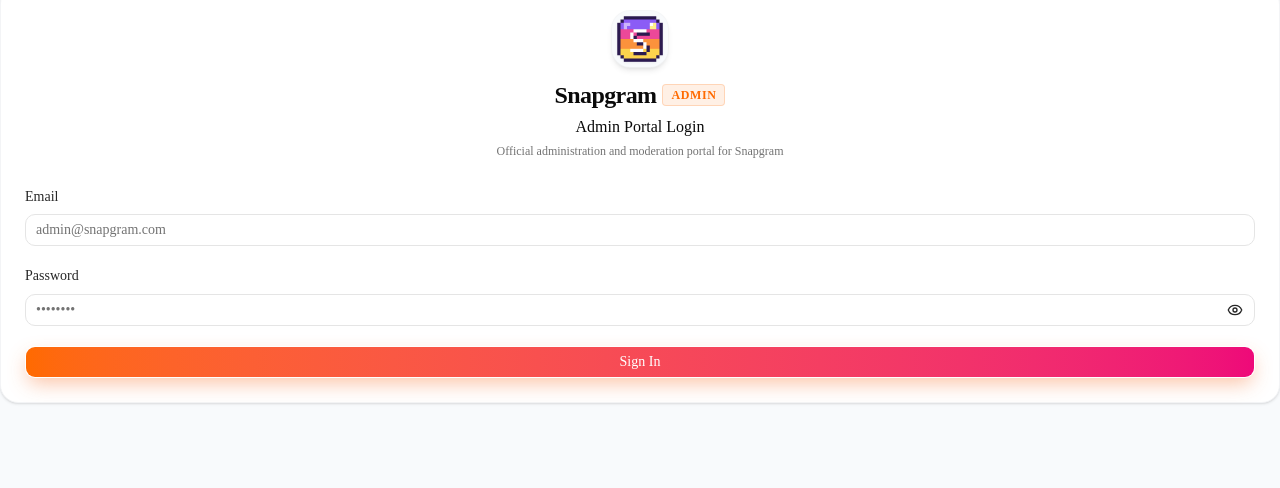
Test: LoginForm › shows a rate limit alert with a countdown
Type "admin@snapgram.dev" into the field labelled "Email" at (640, 230), box [25,214,1255,246]
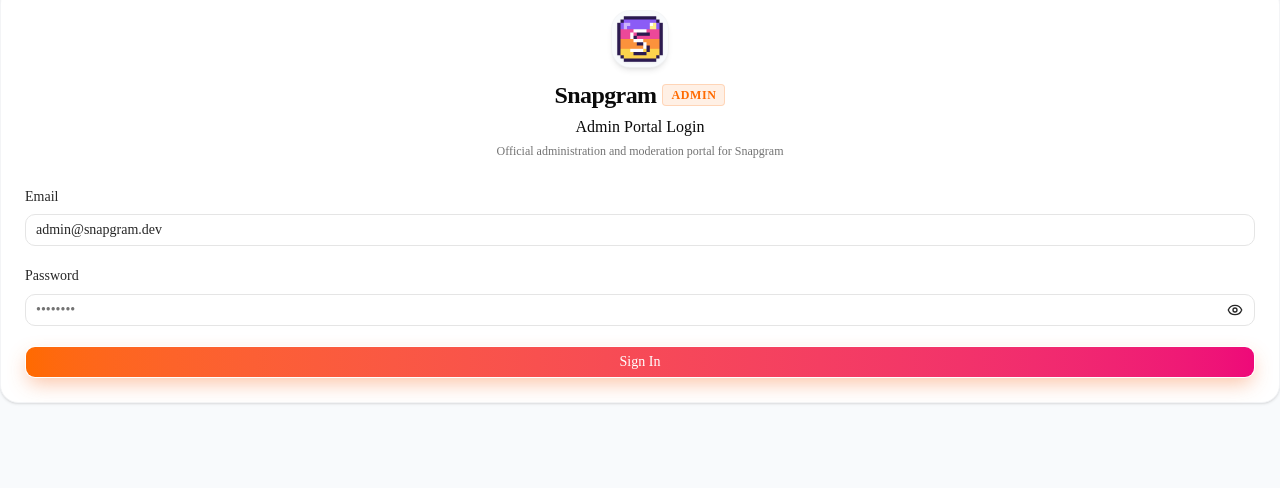
Type "password" into the password field with placeholder "••••••••" at (640, 310), box [25,294,1255,326]
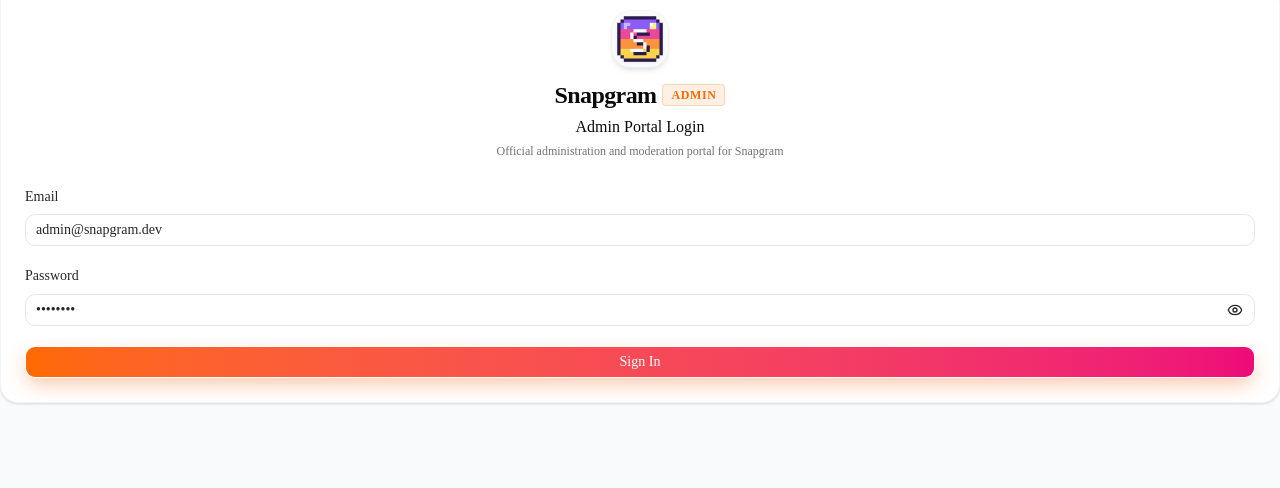
Click the button "Sign In" at (640, 362), box [25,346,1255,378]
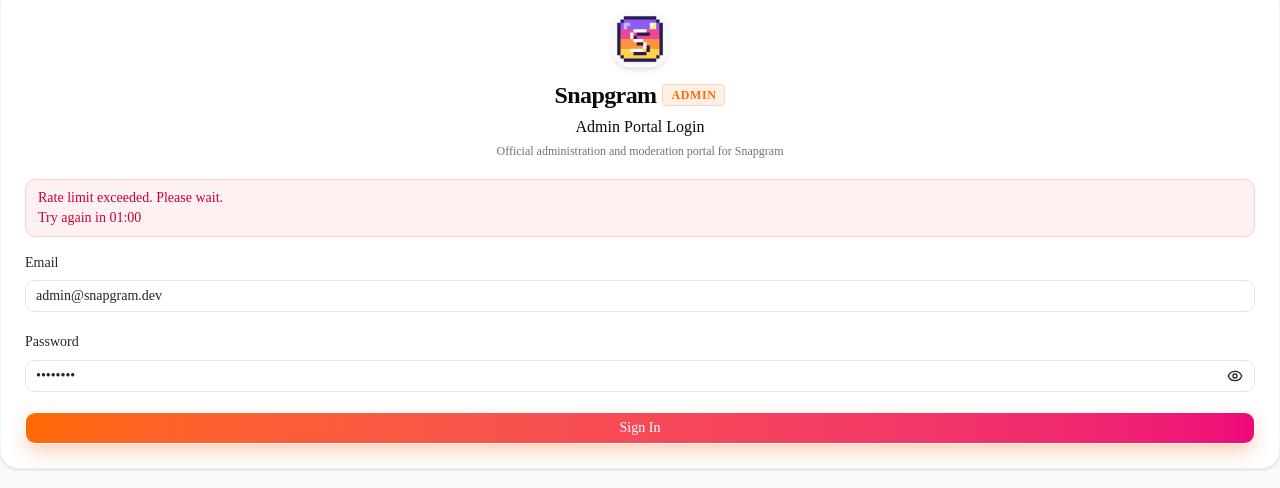
Check: the message "Rate limit exceeded. Please wait. Try again in 01:00" is shown, box [25,179,1255,237]
Check: the text "Try again in 01:00" is shown, box [38,210,141,225]
